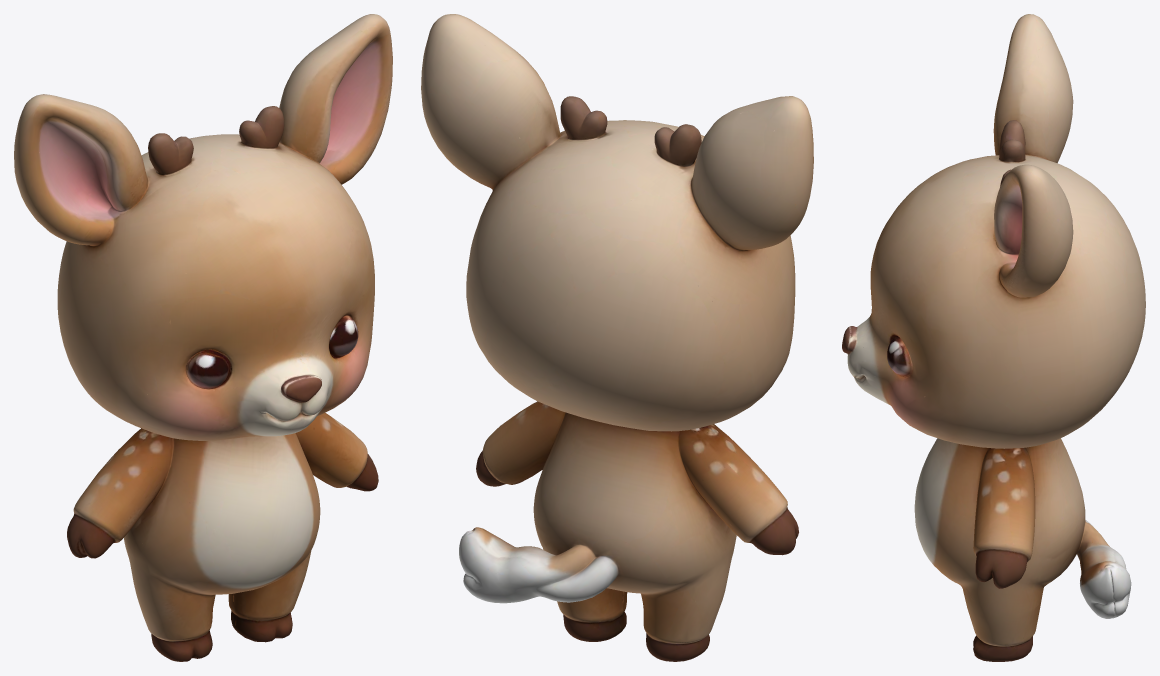
The model's file is npc_deer.glb.
3 renders of one model, left to right at view 1: azimuth 30°, elevation 25°; view 2: azimuth 150°, elevation 25°; view 3: azimuth 270°, elevation 25°, orthographic. The views are drawn at different scales.
Parts seen in each view (by area): view 1: node_0; view 2: node_0; view 3: node_0.
Boxes of the visible parts, x1,y1,x2,y2 form: node_0: [14, 14, 392, 661]; node_0: [421, 14, 813, 661]; node_0: [842, 14, 1145, 661].
Bounding box in the file's own units: 0.689 × 1.02 × 0.5143.
Materials: 1 (1 with a texture image).
